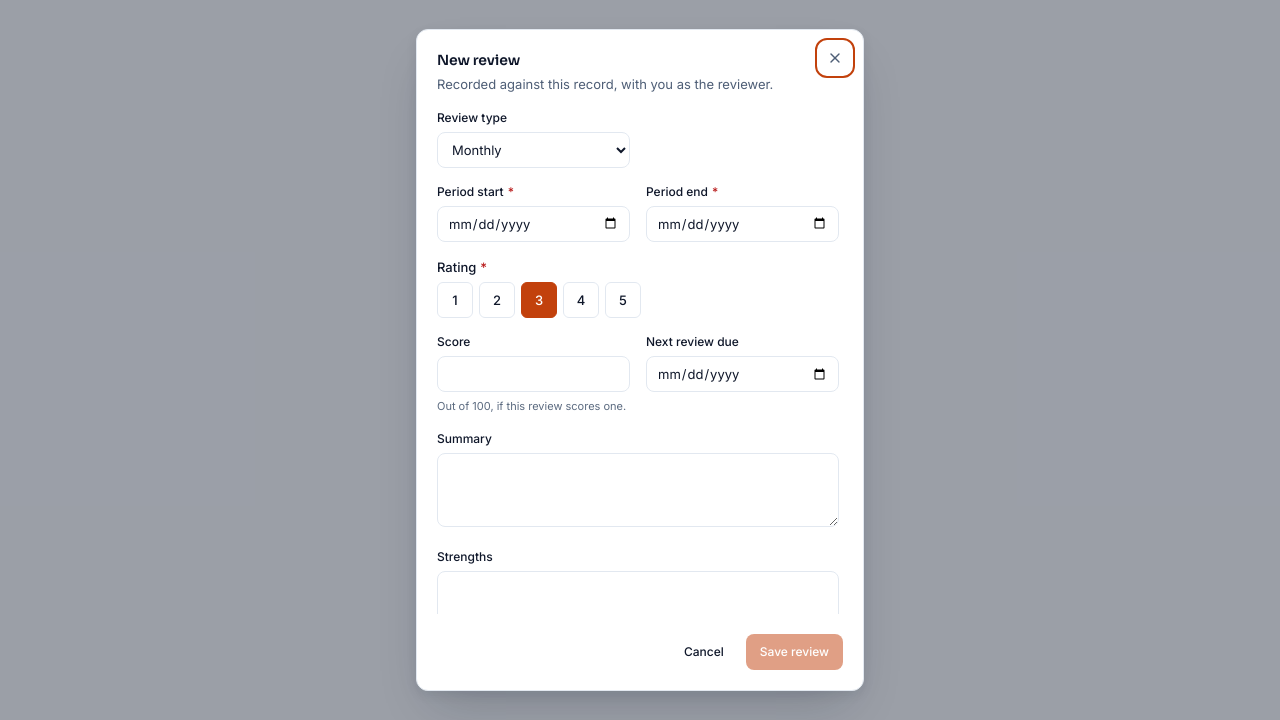
Test: ReviewDialog › shows field errors and stays open when the save is rejected
Type "2026-08-31" into the date field labelled "Period start" at (534, 224), box [437,206,630,242]
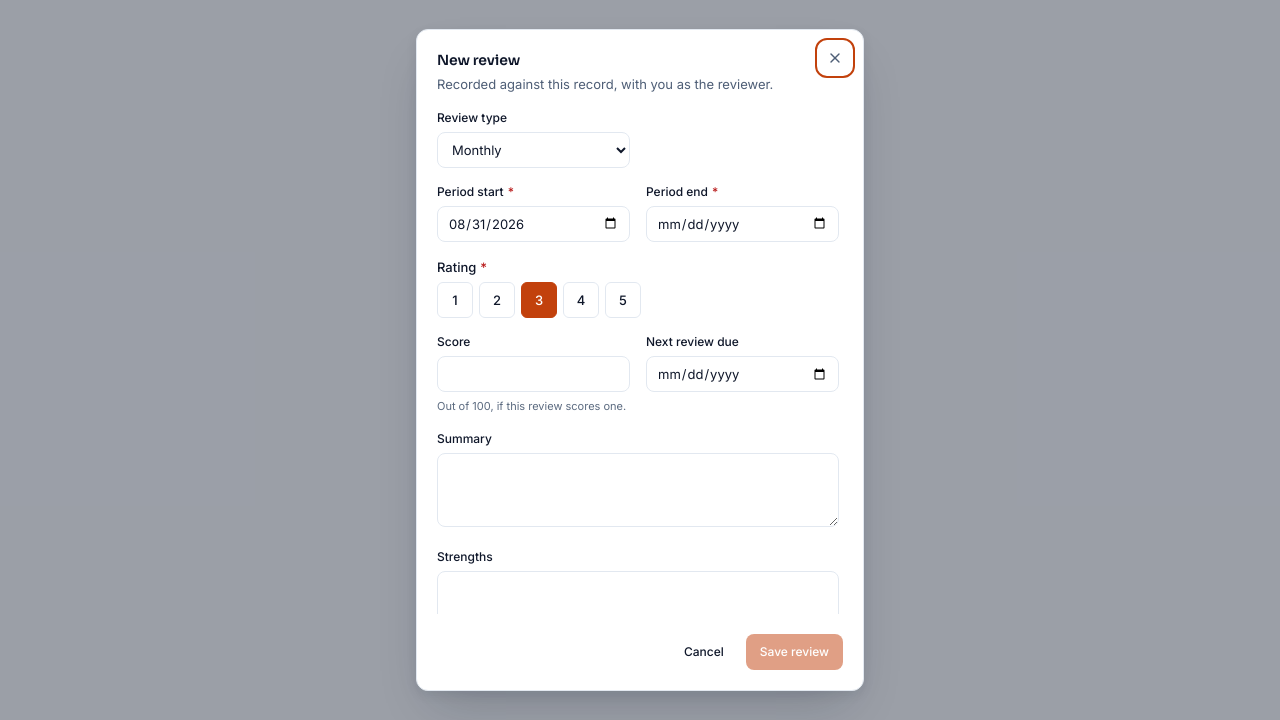
Type "2026-08-01" into the date field labelled "Period end" at (742, 224), box [646,206,839,242]
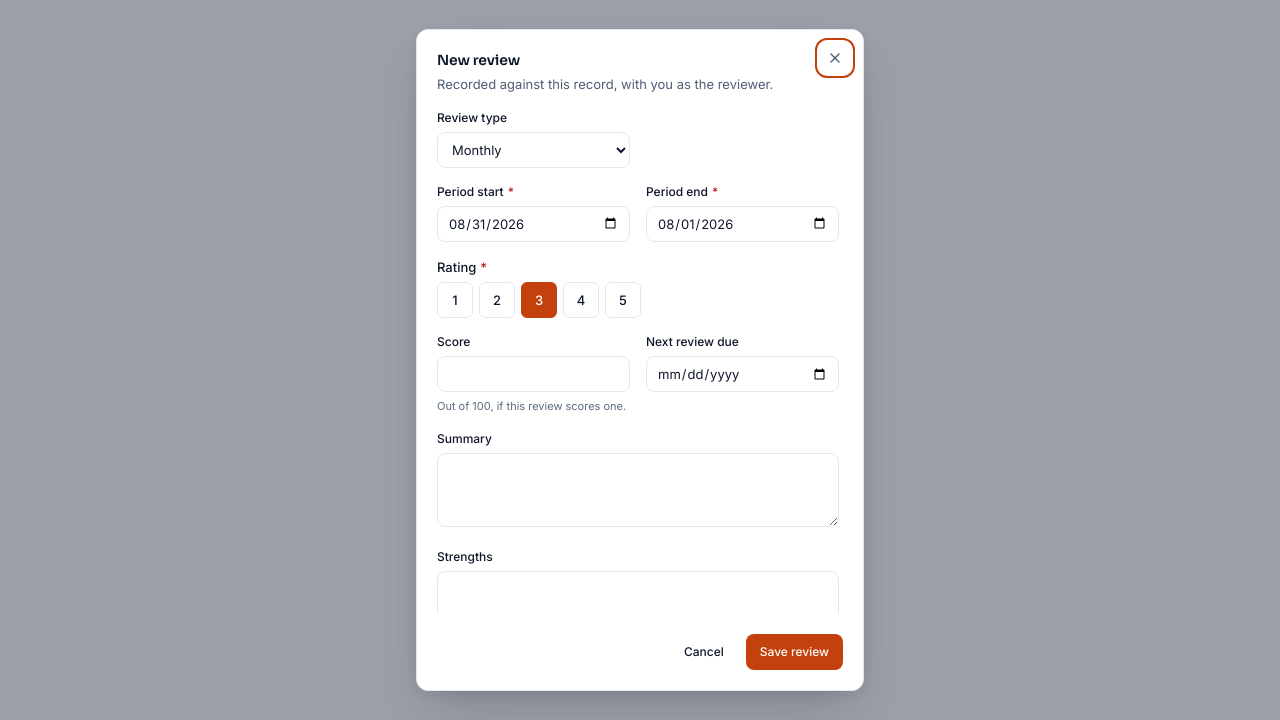
Click the button "Save review" at (794, 652), box [746,634,843,670]
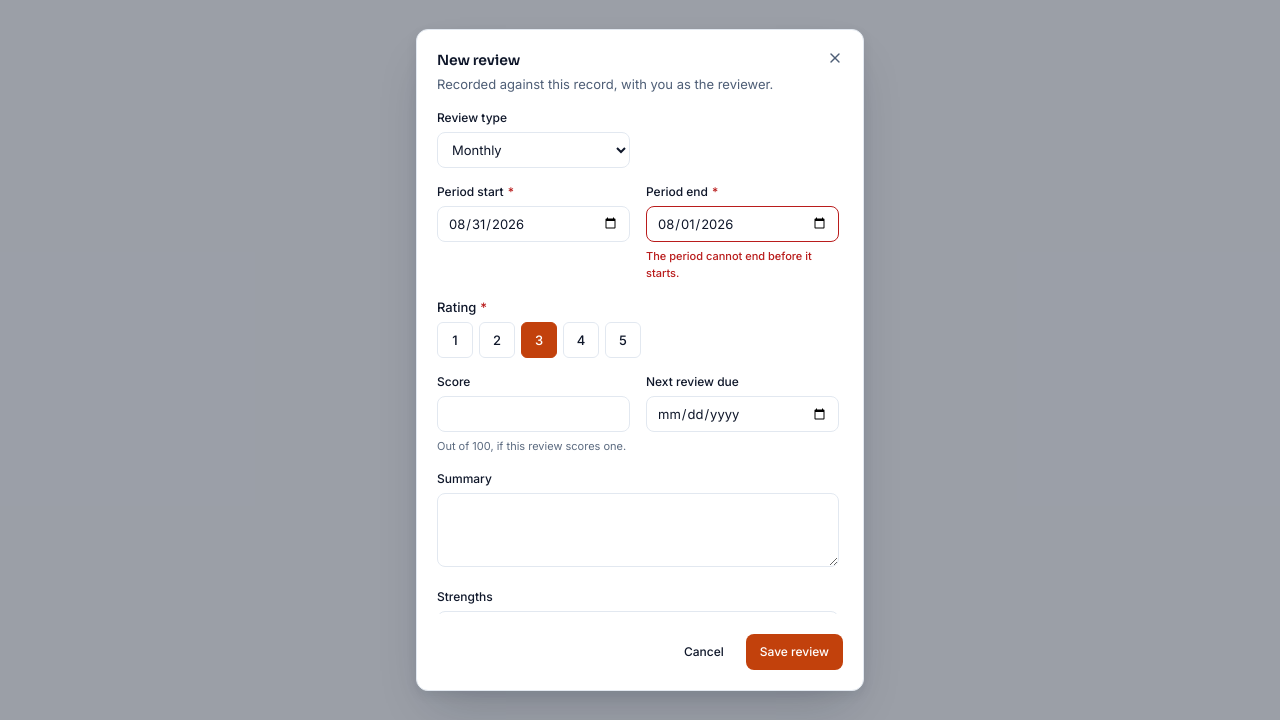
Expected: the text "The period cannot end before it starts." is shown, [646,248,839,282]
